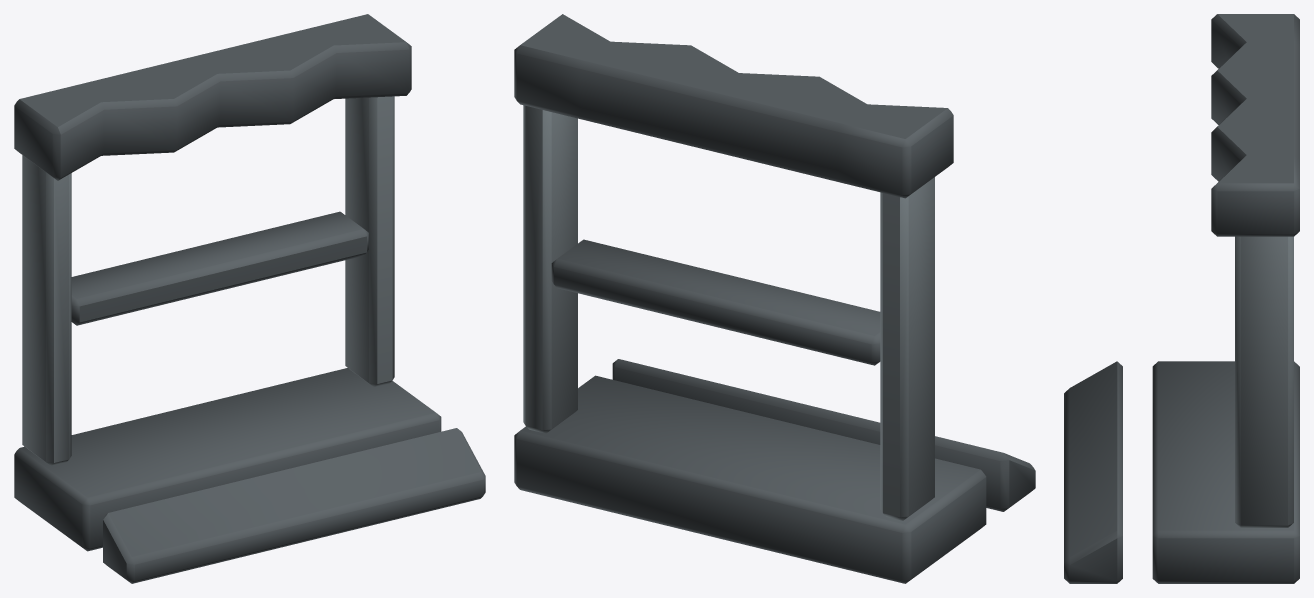
File: weaponrack.glb
The picture shows the model from 3 angles, left to right: view 1: azimuth 30°, elevation 25°; view 2: azimuth 150°, elevation 25°; view 3: azimuth 270°, elevation 25°; orthographic projection. The views are drawn at different scales.
Parts seen in each view (by area): view 1: Weaponrack; view 2: Weaponrack; view 3: Weaponrack.
Part boxes in pixels (x1=…): Weaponrack: x1=14, y1=14, x2=485, y2=583; Weaponrack: x1=514, y1=14, x2=1035, y2=583; Weaponrack: x1=1064, y1=14, x2=1299, y2=583.
Bounding box in the file's own units: 1.4 × 1.5 × 0.8.
1 material, 1 textured.
